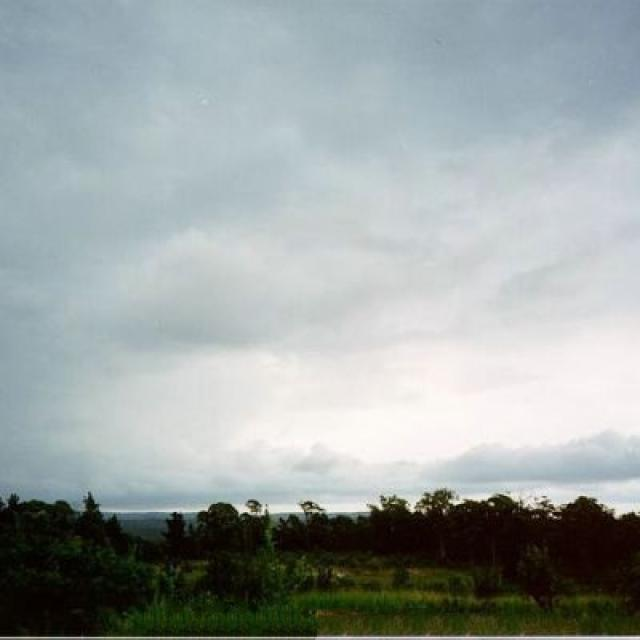Sc: (1, 6, 640, 445)
